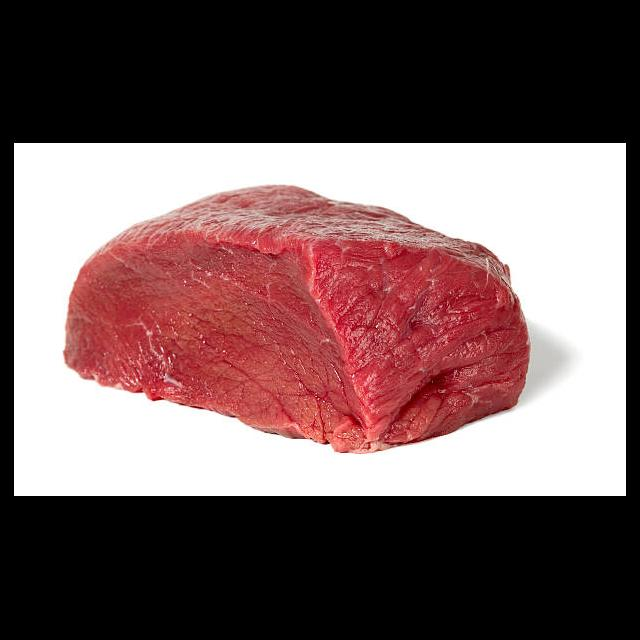beef: (62, 184, 532, 456)
